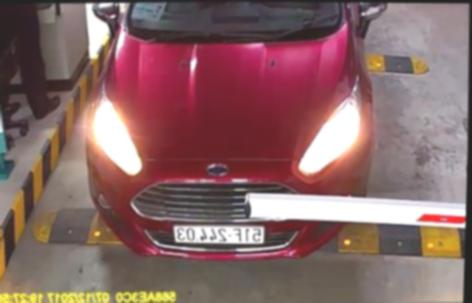License_Plate: (165, 219, 269, 248)
